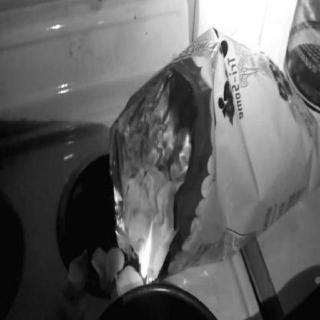Fire: (139, 216, 157, 284)
